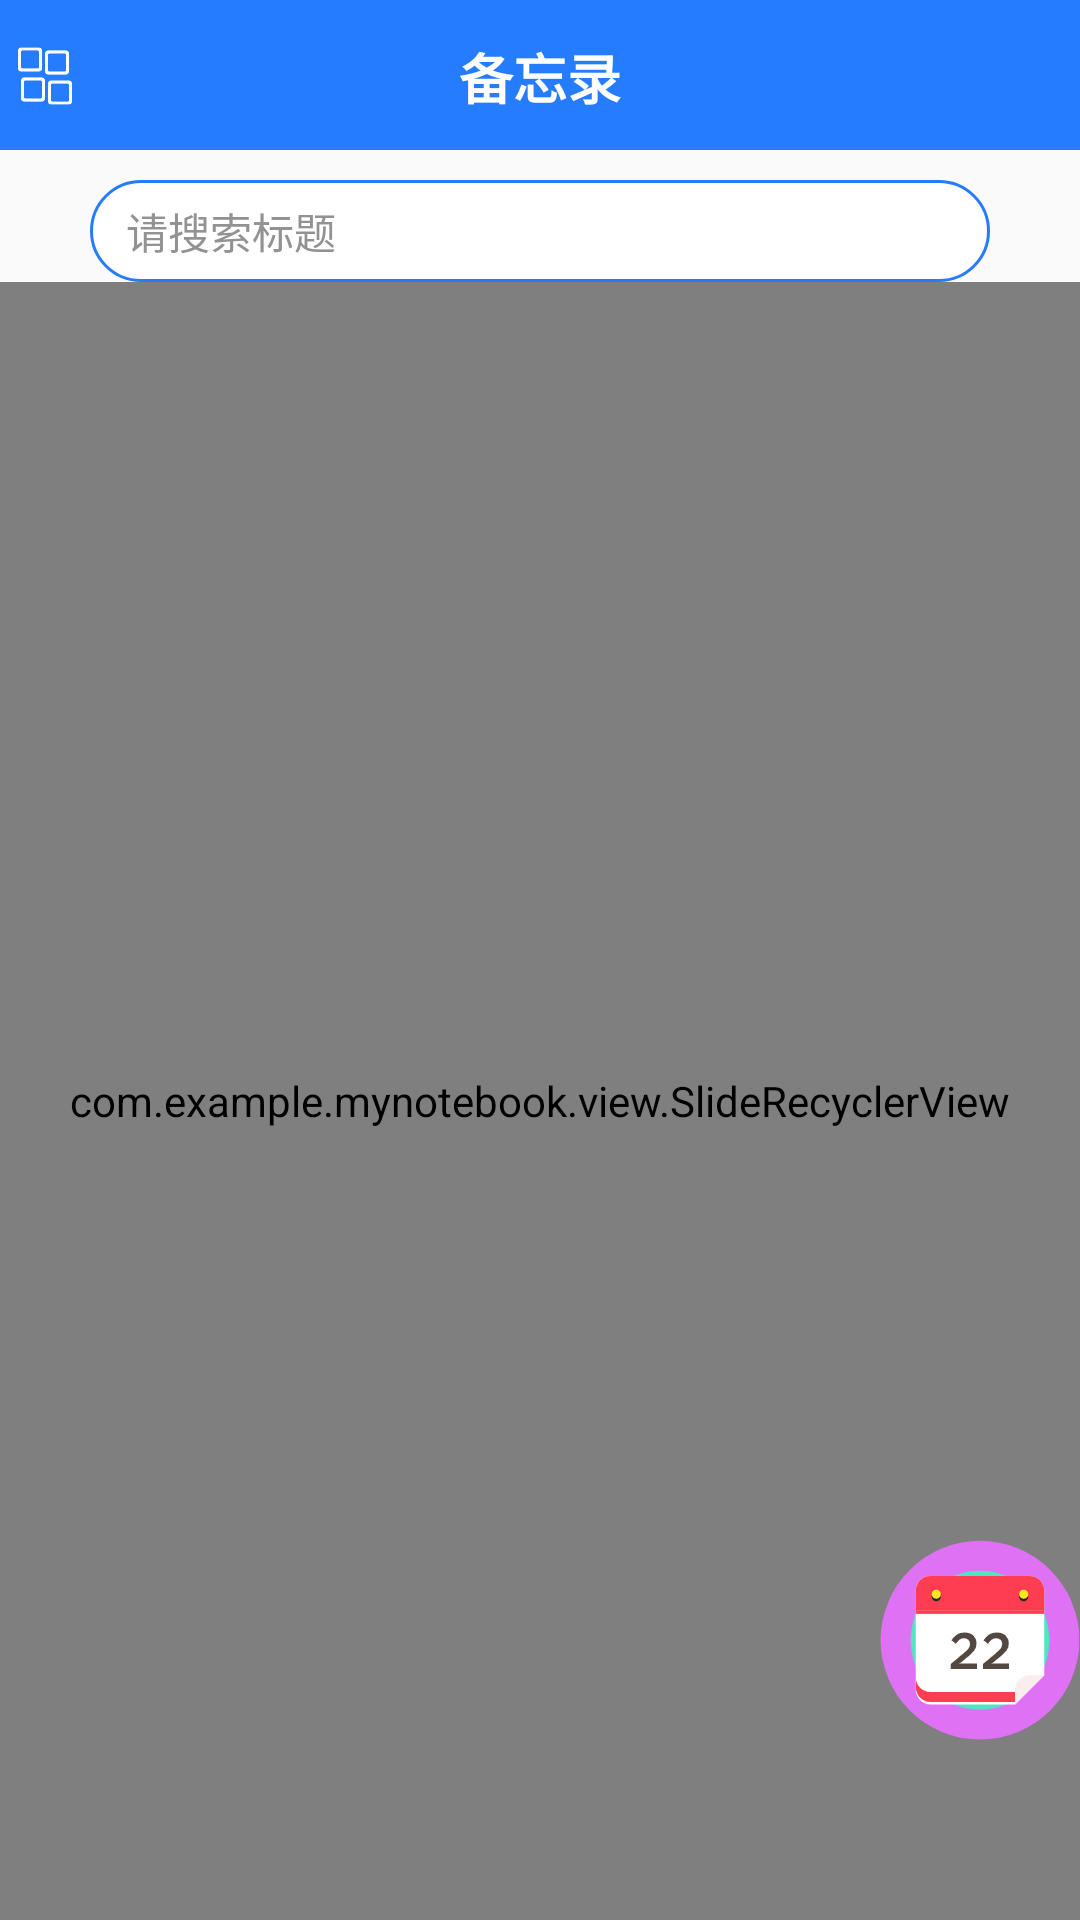

Where icons sit on this 1080 × 1920 app screen, as rect(x1, y1, x2, y2):
calendar: rect(880, 1540, 1080, 1740)
more: rect(18, 47, 72, 105)
